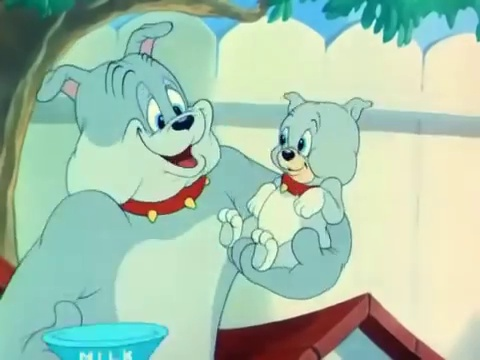spike: (34, 20, 224, 223)
